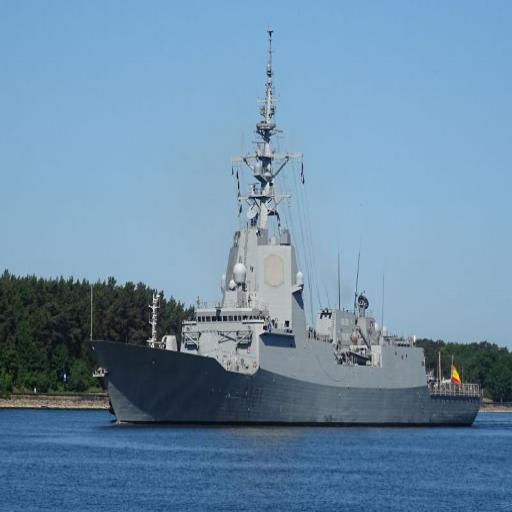Fragata: (89, 28, 486, 434)
